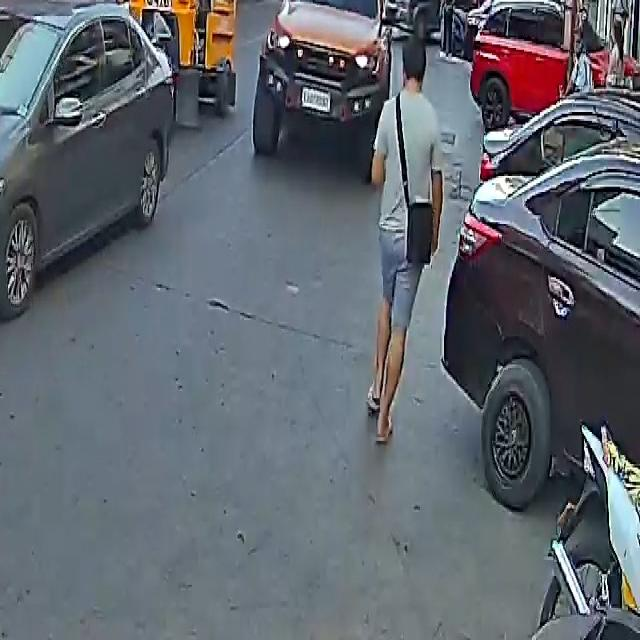car: (445, 76, 640, 528), (0, 0, 174, 316), (256, 0, 403, 160), (467, 0, 614, 128), (385, 0, 483, 41)
